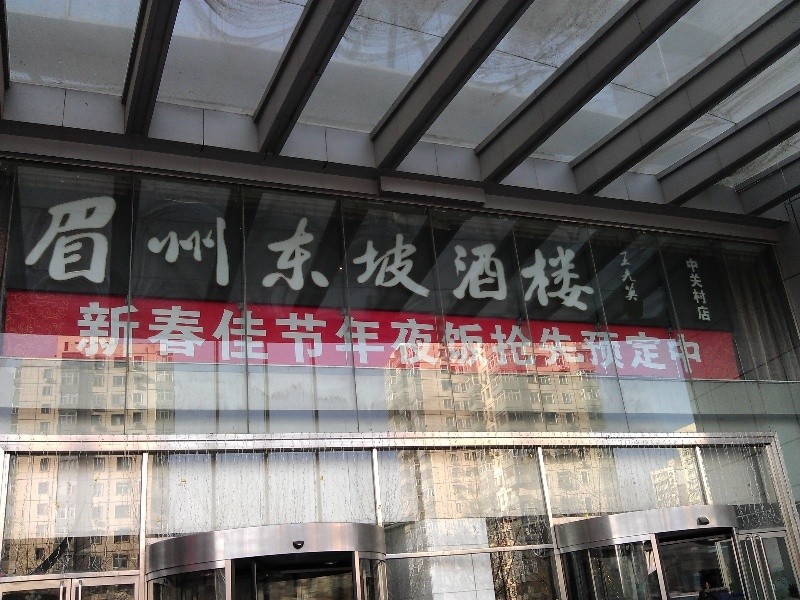text: (33, 190, 48, 313), (49, 190, 64, 313), (65, 190, 80, 313), (81, 190, 96, 313), (97, 190, 112, 313), (113, 190, 128, 313), (129, 190, 144, 313), (145, 190, 160, 313), (161, 190, 176, 313), (177, 190, 192, 313), (193, 190, 208, 313), (209, 190, 224, 313), (225, 190, 240, 313), (241, 190, 256, 313), (257, 190, 272, 313), (273, 190, 288, 313), (289, 190, 304, 313), (305, 190, 320, 313), (321, 190, 336, 313), (337, 190, 352, 313), (353, 190, 368, 313), (369, 190, 384, 313), (385, 190, 400, 313), (401, 190, 416, 313), (417, 190, 432, 313), (433, 190, 448, 313), (449, 190, 464, 313), (465, 190, 480, 313), (481, 190, 496, 313), (497, 190, 512, 313), (513, 190, 528, 313), (529, 190, 544, 313), (545, 190, 560, 313), (561, 190, 576, 313), (577, 190, 592, 313), (81, 300, 96, 375), (97, 300, 112, 375), (113, 300, 128, 375), (129, 300, 144, 375), (145, 300, 160, 375), (161, 300, 176, 375), (177, 300, 192, 375), (193, 300, 208, 375), (209, 300, 224, 375), (225, 300, 240, 375), (241, 300, 256, 375), (257, 300, 272, 375), (273, 300, 288, 375), (289, 300, 304, 375), (305, 300, 320, 375), (321, 300, 336, 375), (337, 300, 352, 375), (353, 300, 368, 375), (369, 300, 384, 375), (385, 300, 400, 375), (401, 300, 416, 375), (417, 300, 432, 375), (433, 300, 448, 375), (449, 300, 464, 375), (465, 300, 480, 375), (481, 300, 496, 375), (497, 300, 512, 375), (513, 300, 528, 375), (529, 300, 544, 375), (545, 300, 560, 375), (561, 300, 576, 375), (577, 300, 592, 375), (593, 300, 608, 375), (609, 300, 624, 375), (625, 300, 640, 375), (641, 300, 656, 375), (657, 300, 672, 375), (673, 300, 688, 375), (689, 300, 704, 375), (689, 258, 704, 322), (593, 190, 600, 313), (625, 251, 641, 301), (705, 258, 712, 322), (617, 251, 624, 301), (685, 258, 688, 322), (78, 300, 80, 375), (705, 300, 707, 375)
